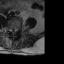CCS_normal: (12, 26, 15, 36)
LFS_normal: (17, 26, 19, 33)
LLS_normal: (15, 26, 17, 34)
RFS_normal: (8, 26, 10, 33)
RLS_normal: (10, 26, 12, 34)
